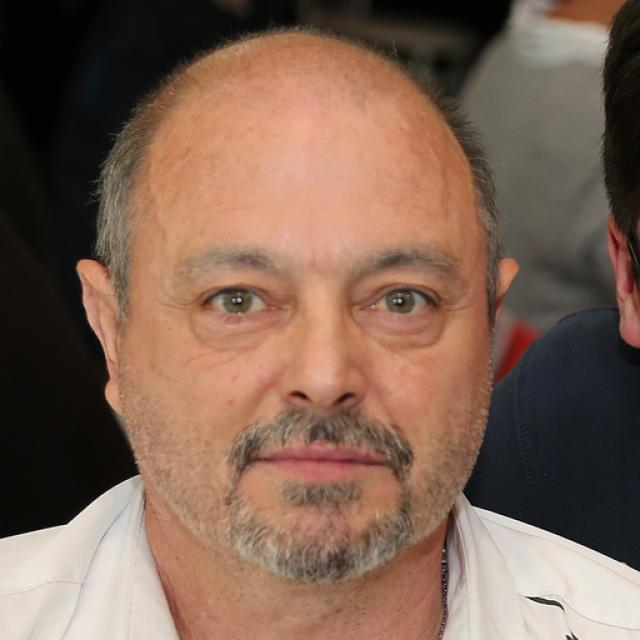0_rostro_limpio: (78, 33, 514, 583)
